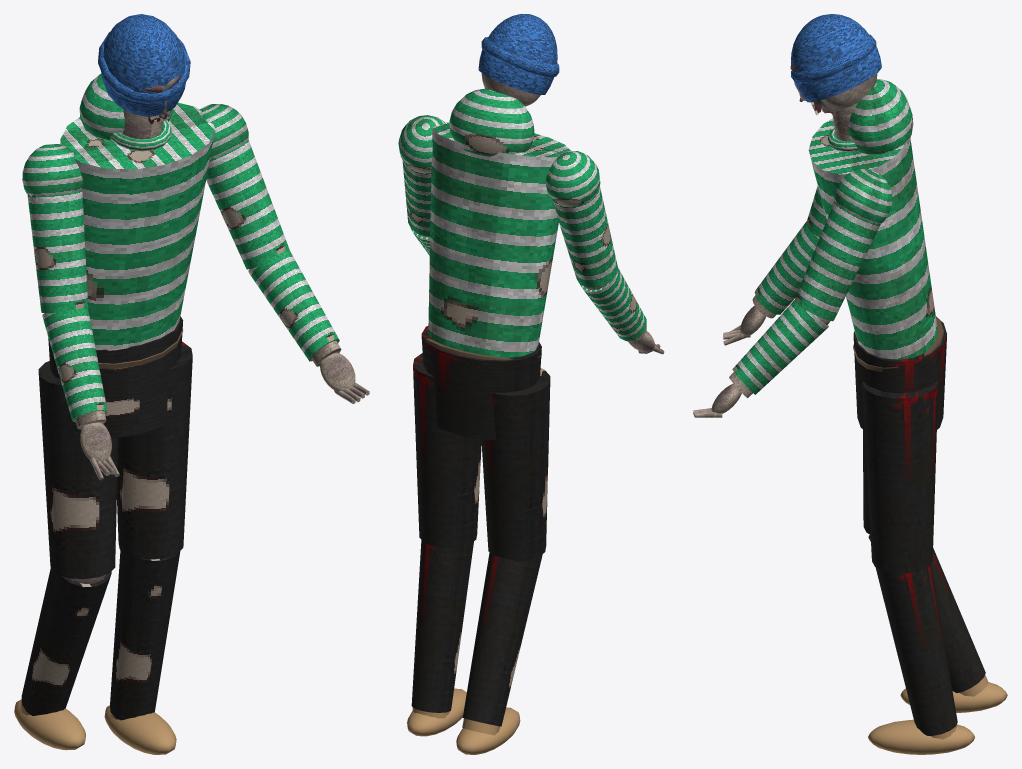
File: Zombie_058.glb
3 views of the same model, side by side, from view 1: azimuth 30°, elevation 25°; view 2: azimuth 150°, elevation 25°; view 3: azimuth 270°, elevation 25° (orthographic). The views are drawn at different scales.
Visible parts, largest first — view 1: Zombie_058, object 41, object 4, object 12, object 42, object 13, object 5; view 2: Zombie_058, object 41, object 4, object 42, object 18; view 3: Zombie_058, object 41, object 12, object 4, object 42, object 18, object 13.
Boxes of the visible parts, <box> form: Zombie_058: <box>14,73,289,754</box>; object 41: <box>101,14,185,116</box>; object 4: <box>42,308,107,421</box>; object 12: <box>248,249,339,361</box>; object 42: <box>98,31,190,103</box>; object 13: <box>320,352,355,391</box>; object 5: <box>80,422,111,462</box>; Zombie_058: <box>398,88,617,754</box>; object 41: <box>478,14,557,94</box>; object 4: <box>578,268,646,340</box>; object 42: <box>481,37,559,77</box>; object 18: <box>481,73,540,106</box>; Zombie_058: <box>795,79,1007,754</box>; object 41: <box>791,14,881,102</box>; object 12: <box>732,300,828,394</box>; object 4: <box>754,221,819,314</box>; object 42: <box>791,34,876,83</box>; object 18: <box>790,63,877,114</box>; object 13: <box>711,383,741,413</box>.
Bounding box in the file's own units: 0.6726 × 1.94 × 0.7725.
16 materials, 6 textured.
